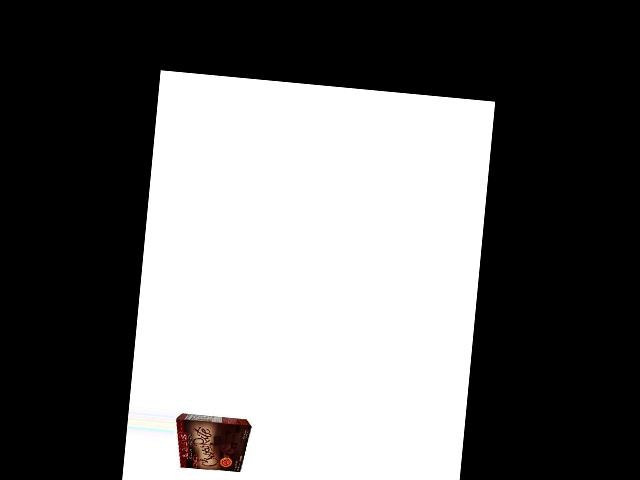chocolate: (173, 413, 252, 475)
